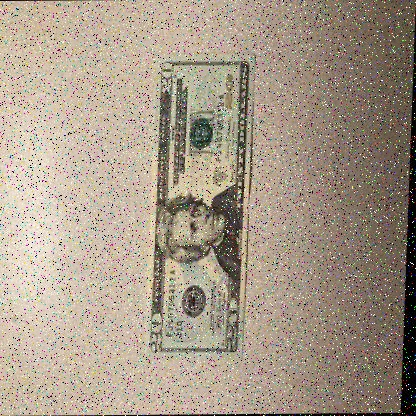twenty-front: (148, 52, 257, 361)
